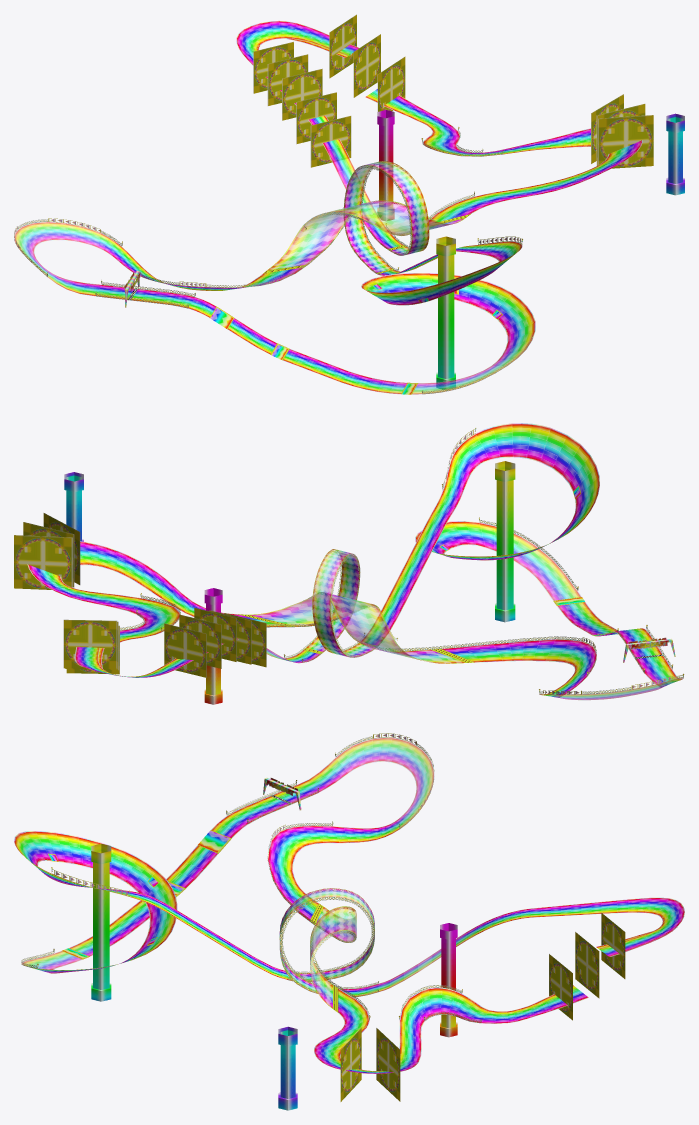
The model's file is RainbowRoad.obj.
The picture shows the model from 3 angles, top to bottom: view 1: azimuth 30°, elevation 25°; view 2: azimuth 150°, elevation 25°; view 3: azimuth 270°, elevation 25°; orthographic projection. The views are drawn at different scales.
Parts seen in each view (by area): view 1: polygon21, polygon9, polygon19, polygon22, polygon17, polygon18, polygon14, polygon11, polygon12, polygon10, polygon8, polygon2 (+3 smaller); view 2: polygon21, polygon9, polygon19, polygon17, polygon22, polygon18, polygon14, polygon2, polygon10, polygon12, polygon15, polygon3 (+3 smaller); view 3: polygon21, polygon9, polygon19, polygon22, polygon18, polygon17, polygon14, polygon5, polygon12, polygon11, polygon10, polygon16 (+1 smaller).
Part boxes in pixels (box(x1,y1,x2,y2)): polygon21: box(96, 20, 642, 389); polygon9: box(253, 14, 653, 168); polygon19: box(377, 110, 684, 389); polygon22: box(18, 129, 532, 394); polygon17: box(289, 161, 448, 247); polygon18: box(14, 44, 505, 394); polygon14: box(344, 195, 429, 272); polygon11: box(57, 32, 525, 394); polygon12: box(67, 29, 530, 393); polygon10: box(80, 25, 535, 391); polygon8: box(48, 41, 516, 365); polygon2: box(267, 189, 464, 270); polygon21: box(27, 423, 672, 696); polygon9: box(14, 513, 266, 677); polygon19: box(64, 461, 515, 704); polygon17: box(282, 549, 415, 658); polygon22: box(120, 520, 683, 694); polygon18: box(77, 537, 683, 700); polygon14: box(306, 562, 374, 657); polygon2: box(249, 556, 465, 663); polygon10: box(75, 521, 676, 696); polygon12: box(75, 522, 679, 697); polygon15: box(238, 486, 609, 662); polygon3: box(257, 552, 447, 663); polygon21: box(14, 785, 684, 1073); polygon9: box(340, 913, 625, 1101); polygon19: box(91, 843, 457, 1110); polygon22: box(21, 736, 480, 1023); polygon18: box(21, 737, 618, 971); polygon17: box(303, 888, 367, 990); polygon14: box(279, 919, 374, 993); polygon5: box(49, 830, 230, 967); polygon12: box(30, 772, 657, 991); polygon11: box(33, 765, 649, 987); polygon10: box(39, 779, 665, 994); polygon16: box(52, 733, 433, 896).
Bounding box in the file's own units: 9.79 × 2.29 × 8.9.
Materials: 23 (23 with a texture image).
